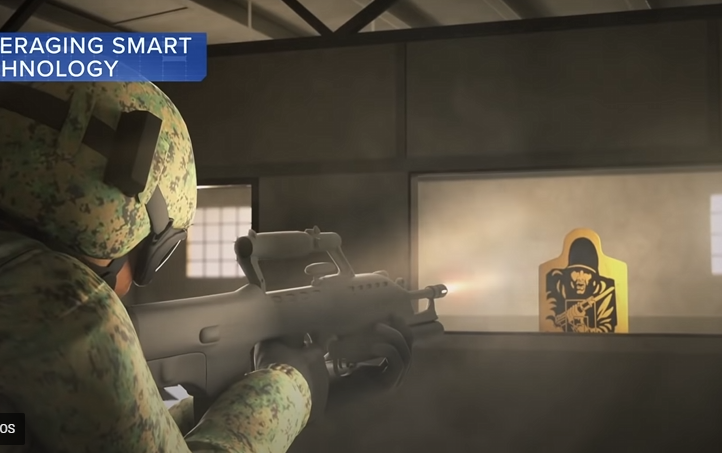HVT1: (539, 227, 628, 332)
